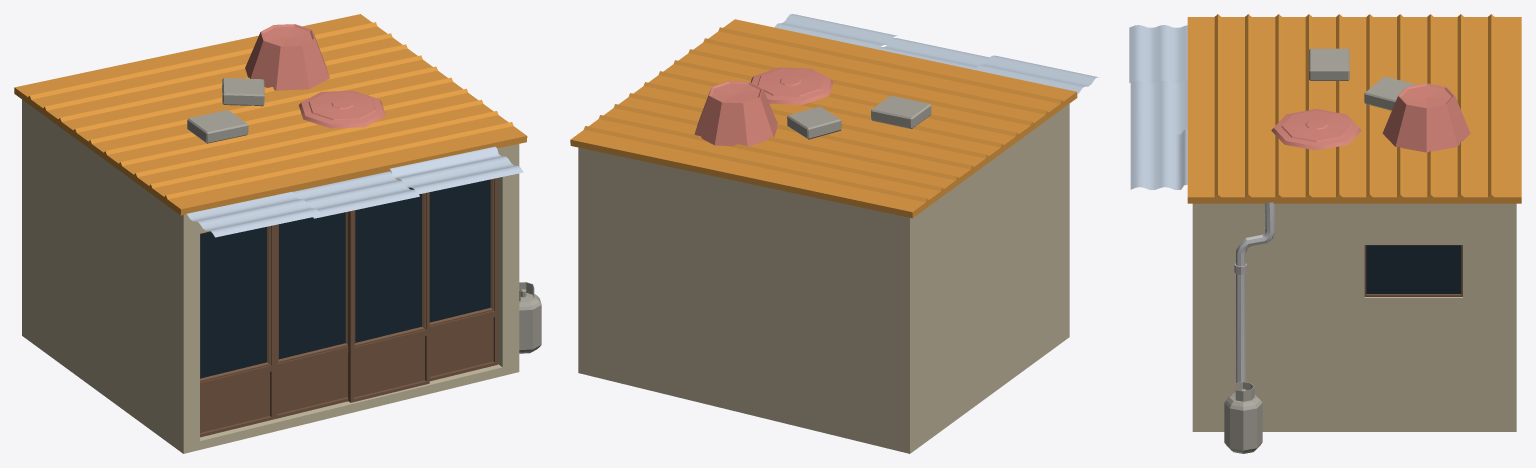
Rendered from Countryhouse004.fbx.
The picture shows the model from 3 angles, left to right: view 1: azimuth 30°, elevation 25°; view 2: azimuth 150°, elevation 25°; view 3: azimuth 270°, elevation 25°; orthographic projection.
Visible parts, largest first — view 1: Countryhouse004, Prop01; view 2: Countryhouse004; view 3: Countryhouse004, Prop01.
Part boxes in pixels (x1,y1,x2,y2): Countryhouse004: [14, 14, 527, 453]; Prop01: [519, 282, 541, 353]; Countryhouse004: [570, 14, 1099, 453]; Countryhouse004: [1129, 14, 1521, 431]; Prop01: [1224, 382, 1262, 453].
Bounding box in the file's own units: 138 × 121 × 96.17.
